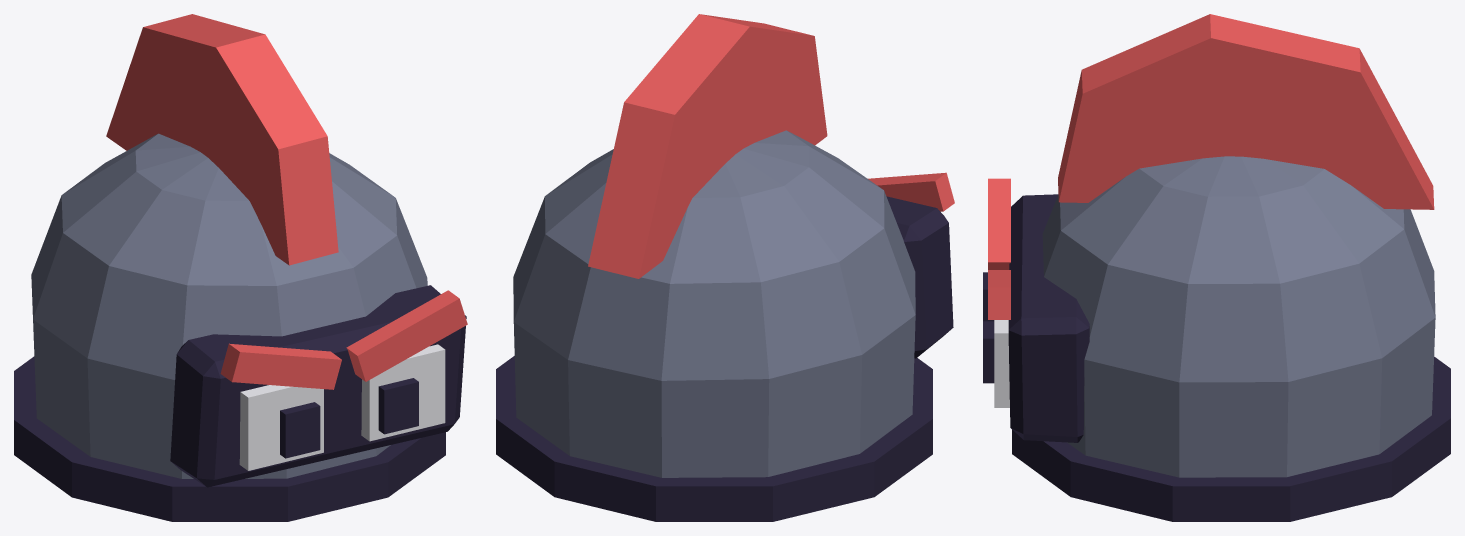
Rendered from guard_head.fbx.
3 views of the same model, side by side, from view 1: azimuth 30°, elevation 25°; view 2: azimuth 150°, elevation 25°; view 3: azimuth 270°, elevation 25° (orthographic).
Parts seen in each view (by area): view 1: guard_head; view 2: guard_head; view 3: guard_head.
Boxes of the visible parts, x1=… form: guard_head: x1=14, y1=14, x2=467, y2=521; guard_head: x1=496, y1=14, x2=954, y2=521; guard_head: x1=983, y1=14, x2=1450, y2=521.
Size of the model in its own units: 0.6665 by 0.6975 by 0.7102.
